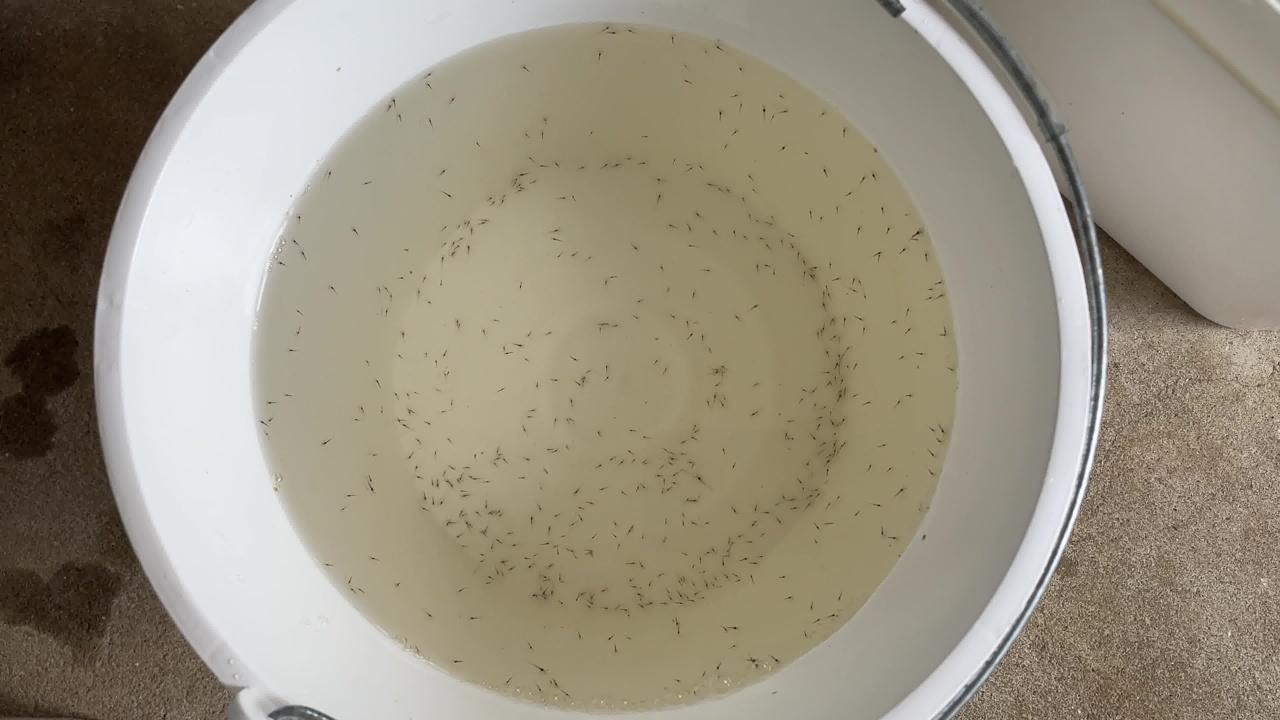shrimp: (829, 611, 841, 619), (835, 595, 847, 603), (814, 617, 826, 625), (807, 601, 819, 609), (801, 631, 813, 639), (784, 595, 796, 603), (776, 574, 788, 582), (746, 576, 758, 584), (747, 563, 759, 571), (756, 555, 768, 563), (739, 554, 751, 562), (734, 570, 746, 578), (737, 578, 749, 586), (724, 575, 736, 583), (714, 575, 726, 583), (710, 581, 722, 589), (703, 581, 715, 589), (699, 595, 711, 603), (690, 592, 702, 600), (690, 583, 702, 591), (682, 576, 694, 584), (677, 576, 689, 584), (676, 582, 688, 590), (677, 591, 689, 599), (677, 599, 689, 607), (665, 595, 677, 603), (663, 589, 675, 597), (663, 600, 675, 608), (658, 571, 670, 579), (645, 582, 657, 590), (637, 562, 649, 570), (629, 561, 641, 569), (627, 576, 639, 584), (630, 583, 642, 591), (637, 593, 649, 601), (645, 600, 657, 608), (638, 605, 650, 613), (673, 632, 685, 640), (675, 618, 687, 626), (729, 624, 741, 632), (720, 626, 732, 634), (612, 645, 624, 653), (625, 635, 637, 643), (606, 635, 618, 643), (576, 634, 588, 642), (623, 614, 635, 622), (620, 609, 632, 617), (614, 605, 626, 613), (602, 607, 614, 615), (603, 587, 615, 595), (588, 594, 600, 602), (591, 600, 603, 608), (587, 604, 599, 612), (576, 591, 588, 599), (559, 601, 571, 609), (558, 581, 570, 589), (553, 574, 565, 582), (539, 570, 551, 578), (543, 581, 555, 589), (544, 563, 556, 571), (550, 590, 562, 598), (541, 586, 553, 594), (539, 596, 551, 604), (532, 593, 544, 601), (527, 564, 539, 572), (522, 555, 534, 563), (529, 553, 541, 561), (510, 567, 522, 575), (499, 558, 511, 566), (498, 568, 510, 576), (493, 569, 505, 577), (487, 573, 499, 581), (484, 580, 496, 588), (478, 561, 490, 569), (478, 553, 490, 561), (510, 541, 522, 549), (507, 529, 519, 537), (496, 538, 508, 546), (486, 542, 498, 550), (540, 544, 552, 552), (553, 549, 565, 557), (550, 544, 562, 552), (568, 554, 580, 562), (562, 545, 574, 553), (586, 550, 598, 558), (590, 533, 602, 541), (608, 533, 620, 541), (610, 522, 622, 530), (624, 526, 636, 534), (618, 546, 630, 554), (639, 534, 651, 542), (659, 537, 671, 545), (659, 521, 671, 529), (674, 522, 686, 530), (677, 513, 689, 521), (687, 521, 699, 529), (700, 518, 712, 526), (681, 549, 693, 557), (691, 563, 703, 571), (705, 574, 717, 582), (695, 560, 707, 568), (701, 553, 713, 561), (710, 548, 722, 556), (719, 563, 731, 571), (722, 556, 734, 564), (726, 544, 738, 552), (723, 540, 735, 548), (745, 541, 757, 549), (736, 534, 748, 542), (759, 534, 771, 542), (751, 520, 763, 528), (730, 507, 742, 515), (751, 507, 763, 515), (761, 508, 773, 516), (776, 516, 788, 524), (771, 501, 783, 509), (786, 495, 798, 503), (789, 505, 801, 513), (778, 493, 790, 501), (811, 538, 823, 546), (811, 525, 823, 533), (821, 518, 833, 526), (824, 503, 836, 511), (831, 496, 843, 504), (812, 486, 824, 494), (815, 491, 827, 499), (807, 493, 819, 501), (804, 501, 816, 509), (798, 488, 810, 496), (796, 479, 808, 487), (824, 466, 836, 474), (840, 444, 852, 452), (831, 442, 843, 450), (829, 449, 841, 457), (824, 453, 836, 461), (822, 458, 834, 466), (819, 451, 831, 459), (819, 444, 831, 452), (811, 436, 823, 444), (833, 433, 845, 441), (813, 425, 825, 433), (800, 462, 812, 470), (840, 420, 852, 428), (829, 420, 841, 428), (826, 410, 838, 418), (863, 402, 875, 410), (849, 390, 861, 398), (845, 389, 857, 397), (837, 388, 849, 396), (835, 393, 847, 401), (810, 402, 822, 410), (815, 411, 827, 419), (795, 401, 807, 409), (799, 387, 811, 395), (809, 387, 821, 395), (786, 416, 798, 424), (782, 430, 794, 438), (788, 435, 800, 443), (753, 412, 765, 420), (753, 386, 765, 394), (828, 381, 840, 389), (830, 375, 842, 383), (839, 376, 851, 384), (854, 358, 866, 366), (841, 361, 853, 369), (832, 364, 844, 372), (819, 371, 831, 379), (822, 349, 834, 357), (832, 354, 844, 362), (841, 354, 853, 362), (843, 347, 855, 355), (837, 338, 849, 346), (831, 335, 843, 343), (839, 317, 851, 325), (830, 317, 842, 325), (820, 327, 832, 335), (817, 330, 829, 338), (859, 329, 871, 337), (856, 314, 868, 322), (819, 303, 831, 311), (827, 295, 839, 303), (825, 285, 837, 293), (815, 292, 827, 300), (862, 292, 874, 300), (858, 279, 870, 287), (851, 288, 863, 296), (850, 280, 862, 288), (833, 274, 845, 282), (825, 261, 837, 269), (812, 262, 824, 270), (808, 276, 820, 284), (800, 271, 812, 279), (803, 259, 815, 267), (794, 252, 806, 260), (788, 243, 800, 251), (789, 232, 801, 240), (779, 240, 791, 248), (771, 272, 783, 280), (764, 262, 776, 270), (753, 262, 765, 270), (751, 300, 763, 308), (731, 315, 743, 323), (732, 464, 744, 472), (720, 449, 732, 457), (718, 400, 730, 408), (723, 394, 735, 402), (711, 391, 723, 399), (703, 401, 715, 409), (714, 384, 726, 392), (721, 373, 733, 381), (722, 364, 734, 372), (712, 370, 724, 378), (709, 348, 721, 356), (700, 333, 712, 341), (684, 336, 696, 344), (684, 320, 696, 328), (689, 292, 701, 300), (702, 268, 714, 276), (764, 242, 776, 250), (761, 235, 773, 243), (766, 222, 778, 230), (769, 216, 781, 224), (744, 215, 756, 223), (752, 216, 764, 224), (743, 235, 755, 243), (733, 230, 745, 238), (711, 230, 723, 238), (687, 243, 699, 251), (687, 226, 699, 234), (691, 214, 703, 222), (669, 222, 681, 230), (736, 196, 748, 204), (749, 189, 761, 197), (747, 178, 759, 186), (727, 187, 739, 195), (717, 188, 729, 196), (707, 181, 719, 189), (698, 162, 710, 170), (684, 168, 696, 176), (684, 161, 696, 169), (668, 156, 680, 164), (656, 175, 668, 183), (656, 197, 668, 205), (641, 133, 653, 141), (642, 159, 654, 167), (657, 261, 669, 269), (668, 313, 680, 321), (632, 243, 644, 251), (637, 296, 649, 304), (627, 313, 639, 321), (652, 358, 664, 366), (661, 367, 673, 375), (613, 323, 625, 331), (599, 320, 611, 328), (595, 330, 607, 338), (611, 274, 623, 282), (600, 282, 612, 290), (587, 255, 599, 263), (567, 249, 579, 257), (554, 254, 566, 262), (551, 236, 563, 244), (550, 224, 562, 232), (572, 195, 584, 203), (557, 196, 569, 204), (626, 155, 638, 163), (613, 164, 625, 172), (601, 165, 613, 173), (577, 167, 589, 175), (553, 161, 565, 169), (542, 161, 554, 169), (687, 498, 699, 506), (697, 477, 709, 485), (696, 430, 708, 438), (688, 423, 700, 431), (691, 437, 703, 445), (679, 440, 691, 448), (679, 454, 691, 462), (687, 462, 699, 470), (659, 446, 671, 454), (671, 447, 683, 455), (668, 453, 680, 461), (664, 460, 676, 468), (671, 468, 683, 476), (669, 478, 681, 486), (665, 484, 677, 492), (657, 487, 669, 495), (660, 478, 672, 486), (656, 473, 668, 481), (641, 464, 653, 472), (642, 458, 654, 466), (643, 435, 655, 443), (629, 427, 641, 435), (627, 448, 639, 456), (628, 457, 640, 465), (641, 483, 653, 491), (635, 485, 647, 493), (619, 461, 631, 469), (610, 454, 622, 462), (595, 429, 607, 437), (594, 462, 606, 470), (600, 485, 612, 493), (617, 490, 629, 498), (588, 498, 600, 506), (571, 486, 583, 494), (576, 504, 588, 512), (576, 510, 588, 518), (568, 518, 580, 526), (556, 533, 568, 541), (543, 529, 555, 537), (553, 511, 565, 519), (538, 505, 550, 513), (528, 516, 540, 524), (540, 468, 552, 476), (561, 443, 573, 451), (548, 449, 560, 457), (544, 444, 556, 452), (550, 419, 562, 427), (560, 421, 572, 429), (566, 416, 578, 424), (564, 402, 576, 410), (604, 375, 616, 383), (599, 365, 611, 373), (582, 366, 594, 374), (577, 374, 589, 382), (572, 380, 584, 388), (571, 352, 583, 360), (550, 378, 562, 386), (532, 379, 544, 387), (528, 406, 540, 414), (528, 414, 540, 422), (521, 424, 533, 432), (523, 459, 535, 467), (516, 475, 528, 483), (502, 461, 514, 469), (491, 463, 503, 471), (490, 457, 502, 465), (498, 452, 510, 460), (490, 445, 502, 453), (476, 451, 488, 459), (468, 452, 480, 460), (484, 482, 496, 490), (470, 476, 482, 484), (461, 462, 473, 470), (496, 513, 508, 521), (493, 507, 505, 515), (485, 508, 497, 516), (480, 502, 492, 510), (476, 531, 488, 539), (481, 526, 493, 534), (471, 510, 483, 518), (463, 521, 475, 529), (455, 532, 467, 540), (462, 543, 474, 551), (457, 509, 469, 517), (447, 518, 459, 526), (462, 495, 474, 503), (459, 488, 471, 496), (457, 477, 469, 485), (447, 464, 459, 472), (439, 467, 451, 475), (447, 479, 459, 487), (435, 484, 447, 492), (426, 479, 438, 487), (437, 501, 449, 509), (430, 501, 442, 509), (420, 493, 432, 501), (420, 508, 432, 516), (501, 389, 513, 397), (522, 356, 534, 364), (542, 329, 554, 337), (521, 327, 533, 335), (511, 341, 523, 349), (506, 348, 518, 356), (499, 344, 511, 352), (518, 281, 530, 289), (489, 314, 501, 322), (476, 328, 488, 336), (452, 317, 464, 325), (437, 349, 449, 357), (431, 358, 443, 366), (421, 348, 433, 356), (441, 373, 453, 381), (448, 397, 460, 405), (434, 386, 446, 394), (439, 409, 451, 417), (446, 437, 458, 445), (433, 450, 445, 458), (415, 473, 427, 481), (410, 465, 422, 473), (407, 451, 419, 459), (413, 440, 425, 448), (422, 420, 434, 428), (407, 425, 419, 433), (394, 420, 406, 428), (405, 408, 417, 416), (413, 388, 425, 396), (405, 392, 417, 400), (392, 392, 404, 400), (378, 408, 390, 416), (373, 379, 385, 387), (365, 357, 377, 365), (396, 355, 408, 363), (397, 333, 409, 341), (378, 306, 390, 314), (386, 298, 398, 306), (381, 287, 393, 295), (375, 289, 387, 297), (422, 300, 434, 308), (412, 290, 424, 298), (430, 279, 442, 287), (416, 278, 428, 286), (395, 276, 407, 284), (404, 245, 416, 253), (437, 258, 449, 266), (449, 251, 461, 259), (453, 244, 465, 252), (447, 243, 459, 251), (454, 235, 466, 243), (461, 244, 473, 252), (437, 242, 449, 250), (438, 227, 450, 235), (468, 230, 480, 238), (455, 224, 467, 232), (459, 219, 471, 227), (463, 220, 475, 228), (476, 221, 488, 229), (477, 215, 489, 223), (487, 201, 499, 209), (484, 195, 496, 203), (495, 200, 507, 208), (499, 192, 511, 200), (530, 179, 542, 187), (521, 169, 533, 177), (516, 188, 528, 196), (513, 182, 525, 190), (507, 180, 519, 188), (528, 157, 540, 165), (538, 135, 550, 143), (538, 118, 550, 126), (521, 66, 533, 74), (449, 98, 461, 106), (476, 142, 488, 150), (523, 131, 535, 139), (590, 128, 602, 136), (439, 192, 451, 200), (435, 171, 447, 179), (425, 119, 437, 127), (426, 87, 438, 95), (421, 71, 433, 79), (394, 114, 406, 122), (391, 96, 403, 104), (383, 109, 395, 117), (362, 181, 374, 189), (350, 227, 362, 235), (326, 287, 338, 295), (325, 168, 337, 176), (297, 214, 309, 222), (289, 240, 301, 248), (301, 255, 313, 263), (275, 259, 287, 267), (293, 308, 305, 316), (295, 328, 307, 336), (289, 352, 301, 360), (284, 392, 296, 400), (360, 407, 372, 415), (353, 418, 365, 426), (322, 439, 334, 447), (264, 399, 276, 407), (268, 417, 280, 425), (257, 421, 269, 429), (369, 448, 381, 456), (365, 473, 377, 481), (370, 490, 382, 498), (345, 492, 357, 500), (338, 503, 350, 511), (323, 563, 335, 571), (344, 575, 356, 583), (345, 590, 357, 598), (358, 588, 370, 596), (367, 554, 379, 562), (391, 581, 403, 589), (424, 614, 436, 622), (472, 616, 484, 624), (457, 583, 469, 591), (455, 658, 467, 666), (504, 677, 516, 685), (528, 642, 540, 650), (534, 666, 546, 674), (534, 687, 546, 695), (546, 678, 558, 686), (550, 677, 562, 685), (559, 690, 571, 698), (675, 676, 687, 684), (688, 693, 700, 701), (700, 673, 712, 681), (713, 664, 725, 672), (728, 644, 740, 652), (750, 656, 762, 664), (750, 663, 762, 671), (769, 655, 781, 663), (892, 534, 904, 542), (881, 528, 893, 536), (855, 510, 867, 518), (870, 501, 882, 509), (890, 489, 902, 497), (883, 466, 895, 474), (863, 466, 875, 474), (879, 443, 891, 451), (928, 469, 940, 477), (925, 453, 937, 461), (934, 438, 946, 446), (939, 428, 951, 436), (927, 425, 939, 433), (907, 391, 919, 399), (888, 403, 900, 411), (948, 366, 960, 374), (913, 365, 925, 373), (913, 351, 925, 359), (900, 354, 912, 362), (942, 334, 954, 342), (942, 328, 954, 336), (903, 329, 915, 337), (888, 318, 900, 326), (899, 309, 911, 317), (939, 293, 951, 301), (929, 295, 941, 303), (929, 287, 941, 295), (934, 278, 946, 286), (922, 255, 934, 263), (911, 238, 923, 246), (911, 231, 923, 239), (900, 247, 912, 255), (875, 258, 887, 266), (871, 252, 883, 260), (884, 228, 896, 236), (877, 208, 889, 216), (902, 210, 914, 218), (851, 227, 863, 235), (832, 205, 844, 213), (818, 213, 830, 221), (807, 212, 819, 220), (848, 191, 860, 199), (859, 176, 871, 184), (869, 173, 881, 181), (822, 169, 834, 177), (838, 129, 850, 137), (818, 111, 830, 119), (802, 153, 814, 161), (781, 146, 793, 154), (783, 109, 795, 117), (777, 93, 789, 101), (770, 115, 782, 123), (759, 106, 771, 114), (731, 130, 743, 138), (720, 146, 732, 154), (736, 106, 748, 114), (733, 92, 745, 100), (716, 110, 728, 118), (737, 64, 749, 72), (717, 45, 729, 53), (701, 47, 713, 55), (680, 62, 692, 70), (683, 78, 695, 86), (665, 34, 677, 42), (629, 27, 641, 35), (608, 29, 620, 37), (598, 25, 610, 33), (593, 51, 605, 59), (664, 284, 676, 292), (652, 336, 664, 344)
